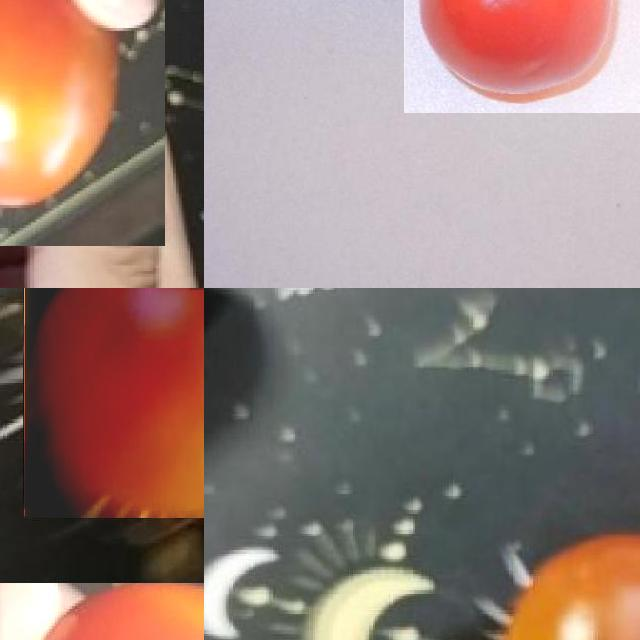0: (0, 0, 165, 246)
Fresh Tomato: (24, 288, 204, 518), (404, 0, 640, 113)
